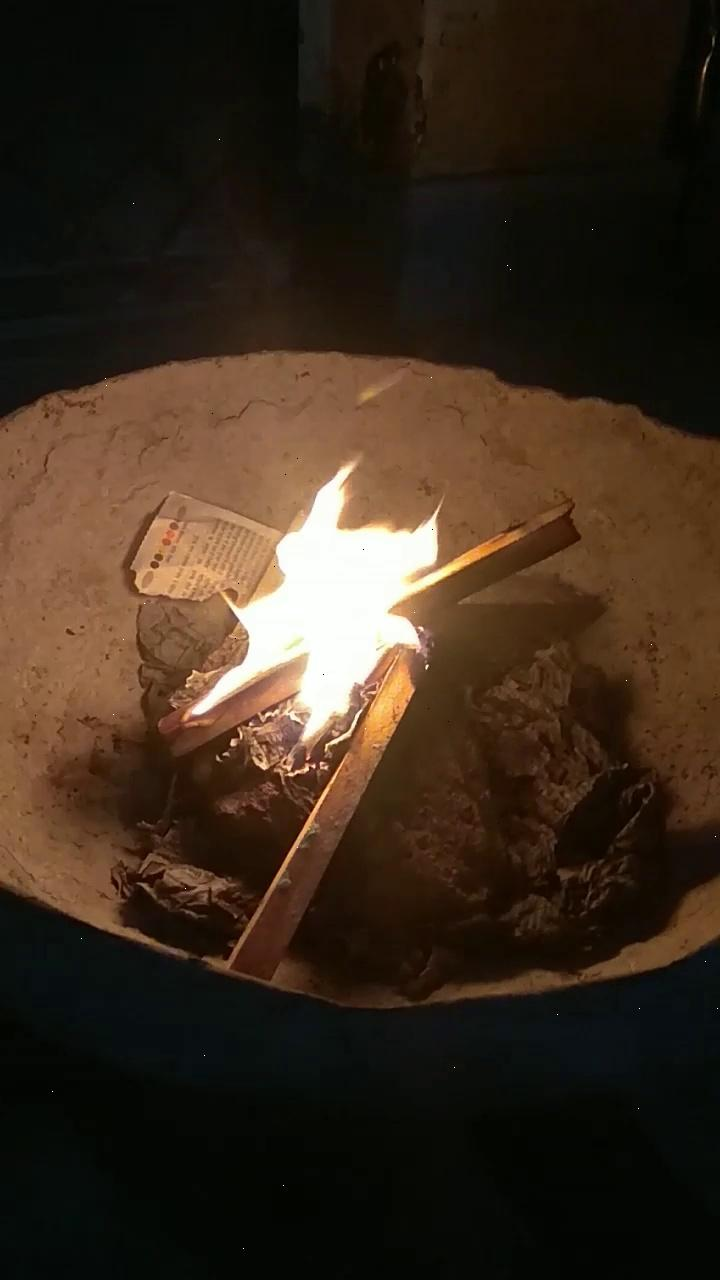fire: (181, 444, 454, 774)
